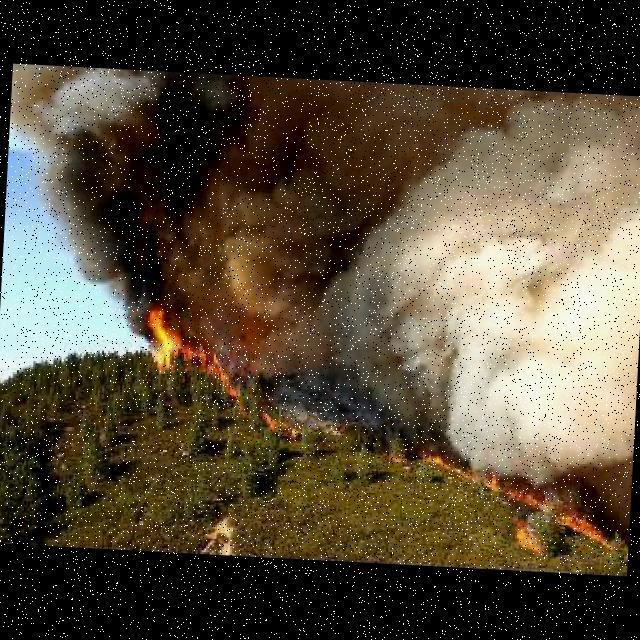Fire: (412, 446, 615, 560), (142, 305, 253, 414)
Smoke: (1, 60, 427, 355)
